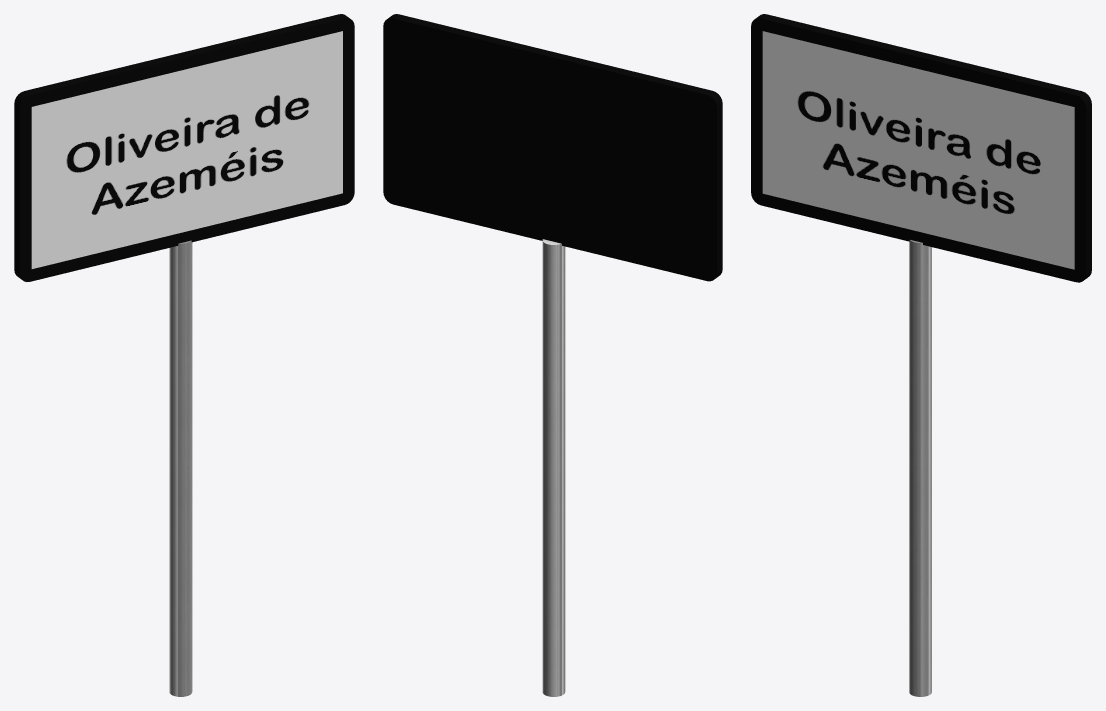
Rendered from Oliveira de Azeméis.gltf.
3 renders of one model, left to right at view 1: azimuth 30°, elevation 25°; view 2: azimuth 150°, elevation 25°; view 3: azimuth 330°, elevation 25°, orthographic.
Parts seen in each view (by area): view 1: root; view 2: root; view 3: root.
Part boxes in pixels (left/top/right/bottom): root: left=14, top=14, right=354, bottom=696; root: left=383, top=14, right=722, bottom=696; root: left=751, top=14, right=1091, bottom=696.
Size of the model in its own units: 0.4318 by 0.7865 by 0.0254.
4 materials, 2 textured.
